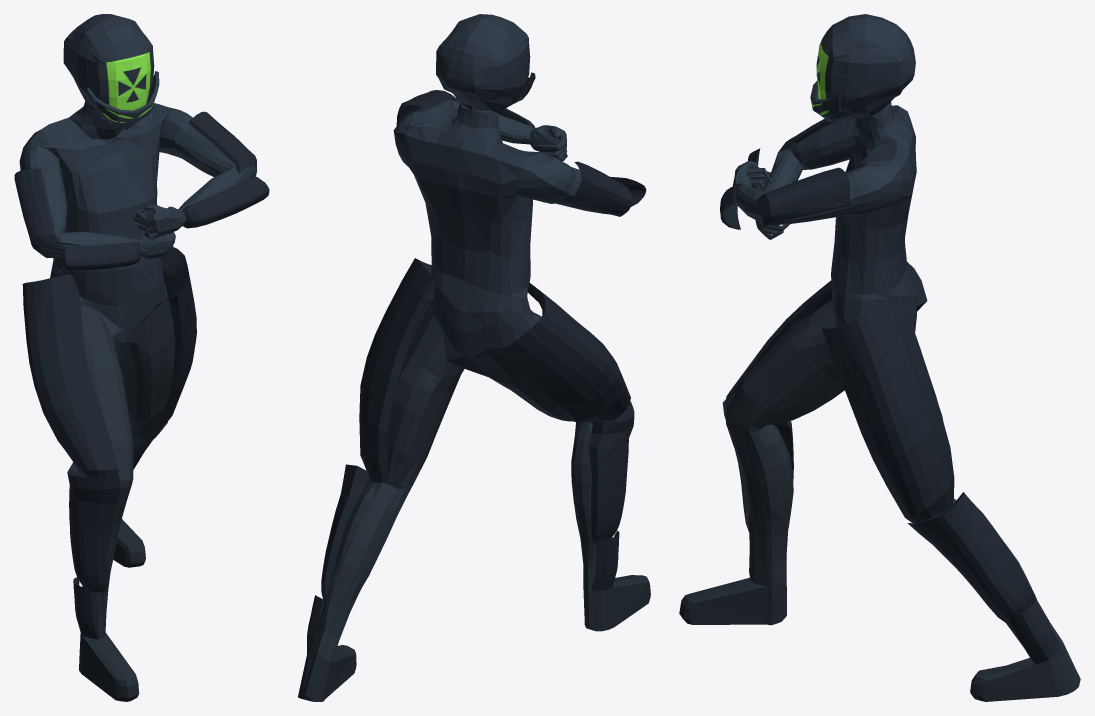
The model's file is Bastion_Stun_Recover_000024.obj.
3 views of the same model, side by side, from view 1: azimuth 30°, elevation 25°; view 2: azimuth 150°, elevation 25°; view 3: azimuth 270°, elevation 25° (orthographic). The views are drawn at different scales.
Parts seen in each view (by area): view 1: Cube.002; view 2: Cube.002; view 3: Cube.002.
Boxes of the visible parts, x1=… form: Cube.002: x1=14, y1=14, x2=269, y2=701; Cube.002: x1=298, y1=14, x2=650, y2=701; Cube.002: x1=679, y1=14, x2=1080, y2=701.
Bounding box in the file's own units: 1.32 × 3.62 × 2.06.
